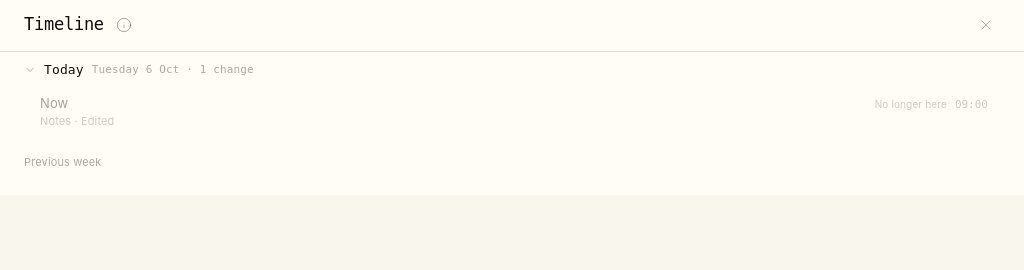
Test case: TimelineView › loads the week before on request, and says when a week was quiet
This screenshot has width=1024, height=270.
Step 1. Click the button "Previous week" → {"x": 63, "y": 162}, box 18,152 -> 107,173
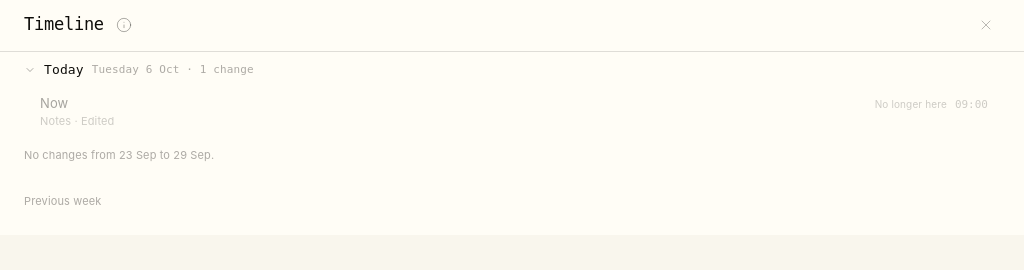
Now the text "No changes from 23 Sep to 29 Sep." is shown, box 24,148 -> 214,162
Step 2. Click the button "Previous week" → {"x": 63, "y": 202}, box 18,191 -> 107,213
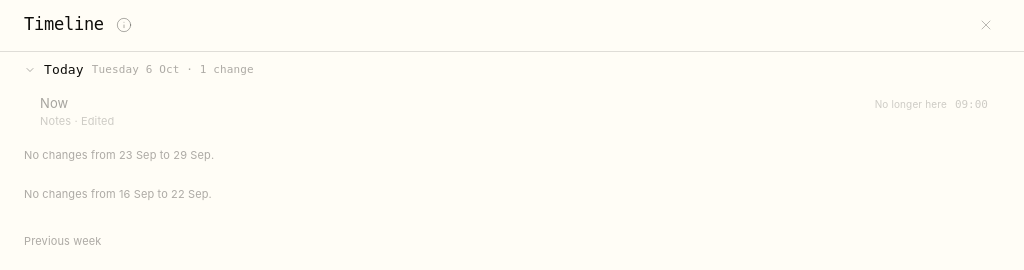
Step 3. Click the button "Previous week" → {"x": 63, "y": 242}, box 18,231 -> 107,253
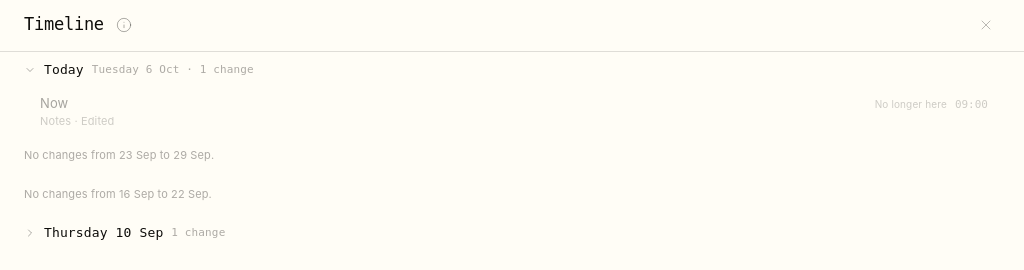
Now the button "Thursday 10 Sep 1 change" is shown, box 18,220 -> 994,246
Now the button "Previous week" is gone
